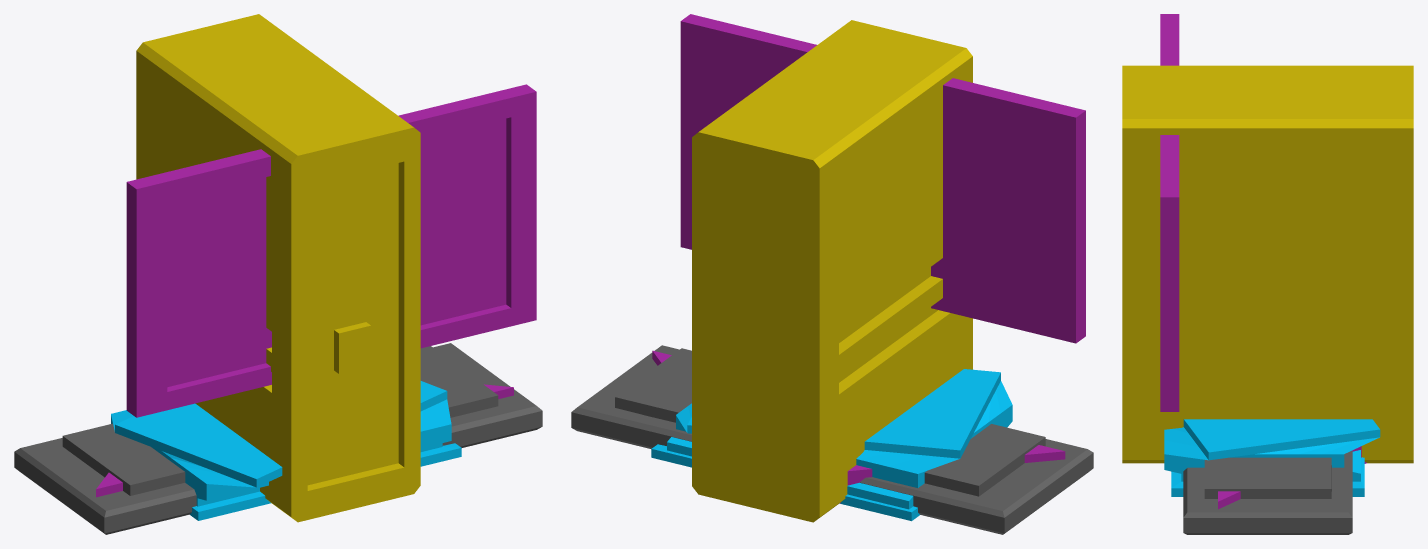
File: officeObjectsWithUVS.fbx
3 views of the same model, side by side, from view 1: azimuth 30°, elevation 25°; view 2: azimuth 150°, elevation 25°; view 3: azimuth 270°, elevation 25° (orthographic). The views are drawn at different scales.
Visible parts, largest first — view 1: Desktop, monitor, keyboard, stack_of_paper; view 2: Desktop, monitor, keyboard, stack_of_paper; view 3: Desktop, keyboard, stack_of_paper, monitor.
Boxes of the visible parts, bbox=[...] form: Desktop: bbox=[136, 14, 420, 522]; monitor: bbox=[96, 84, 536, 497]; keyboard: bbox=[14, 343, 542, 534]; stack_of_paper: bbox=[111, 381, 461, 520]; Desktop: bbox=[692, 20, 972, 522]; monitor: bbox=[652, 14, 1085, 503]; keyboard: bbox=[571, 345, 1093, 534]; stack_of_paper: bbox=[651, 369, 1012, 521]; Desktop: bbox=[1122, 65, 1413, 463]; keyboard: bbox=[1183, 451, 1352, 534]; stack_of_paper: bbox=[1164, 419, 1380, 496]; monitor: bbox=[1160, 14, 1366, 509].
Bounding box in the file's own units: 14.45 × 11.55 × 8.85.
